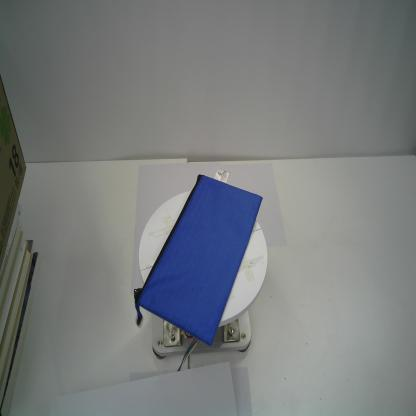Stationery: (132, 165, 264, 349)
